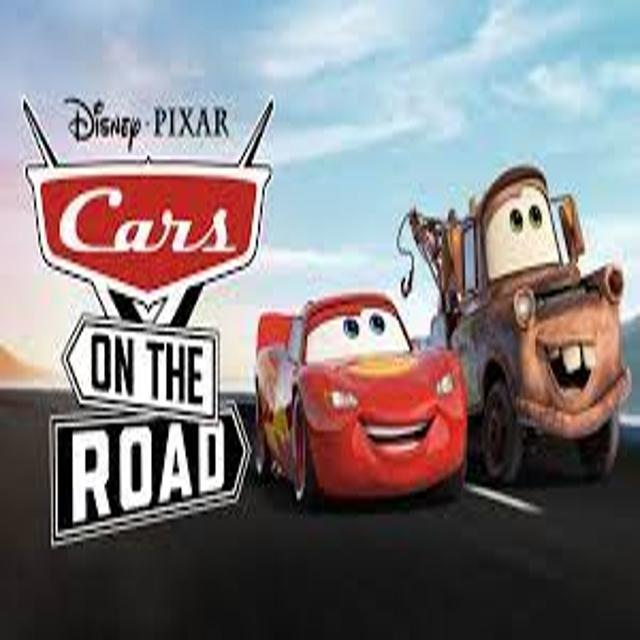car: (472, 167, 631, 481), (253, 293, 467, 508)
